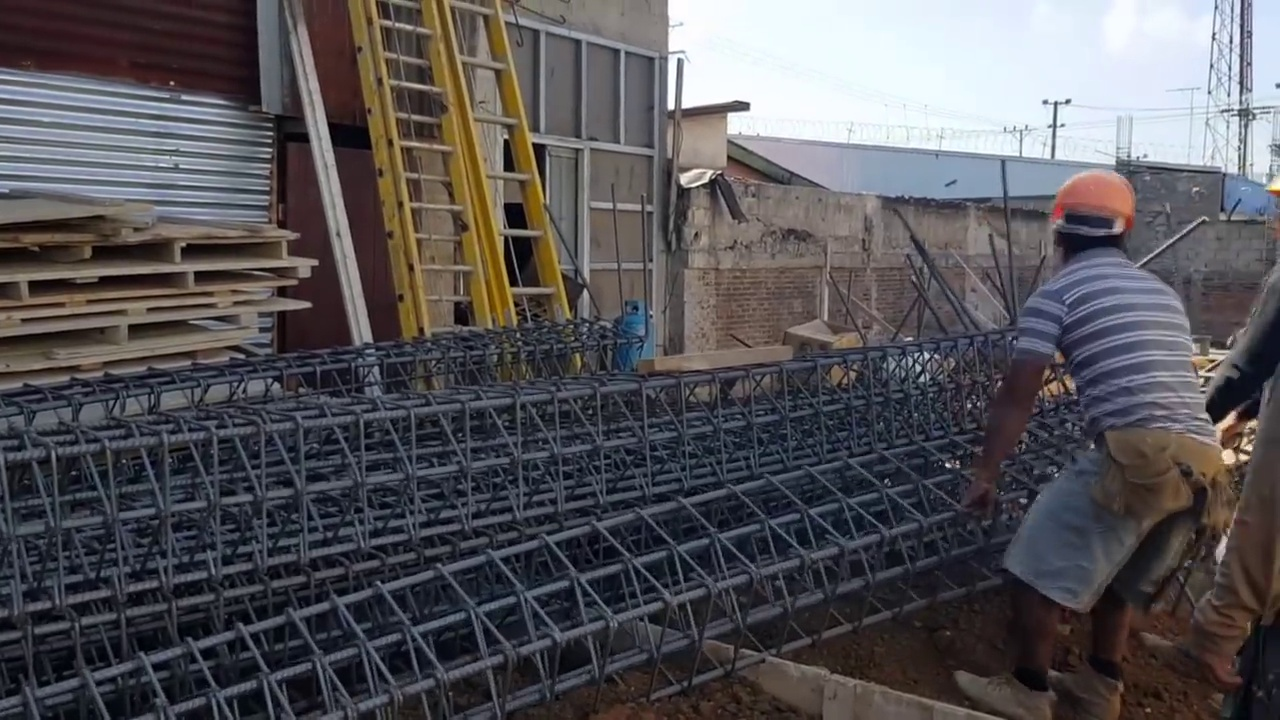helmet: (1054, 172, 1144, 241)
helmet-on: (1042, 170, 1144, 276)
person: (960, 171, 1229, 717)
